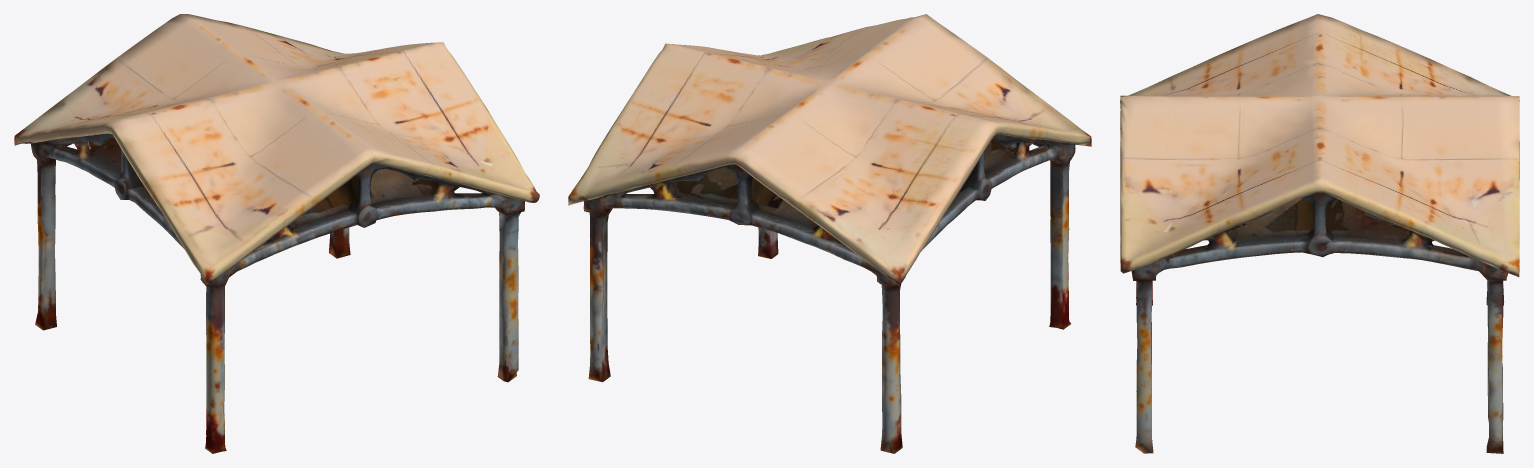
The model's file is 16Shed.fbx.
3 views of the same model, side by side, from view 1: azimuth 30°, elevation 25°; view 2: azimuth 150°, elevation 25°; view 3: azimuth 270°, elevation 25° (orthographic). The views are drawn at different scales.
Visible parts, largest first — view 1: Mesh_0; view 2: Mesh_0; view 3: Mesh_0.
Part boxes in pixels (x1=…): Mesh_0: x1=14, y1=14, x2=539, y2=453; Mesh_0: x1=568, y1=14, x2=1091, y2=453; Mesh_0: x1=1120, y1=14, x2=1519, y2=453.
Size of the model in its own units: 191 by 148 by 191.
